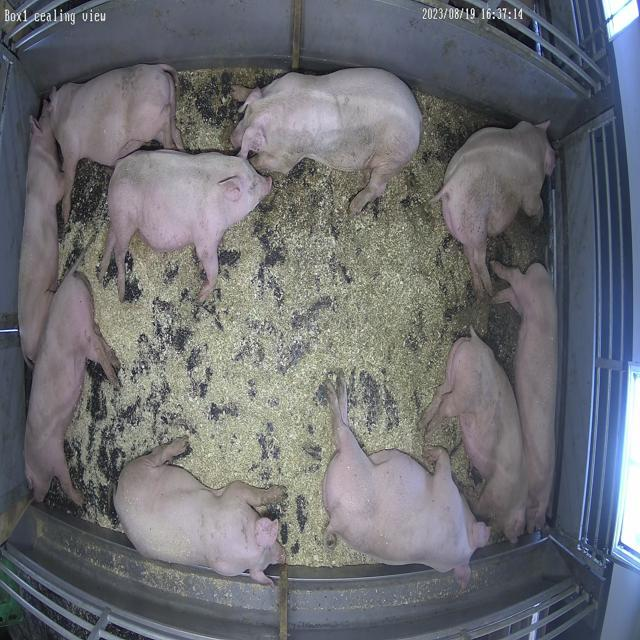Dirt: (363, 92, 496, 240), (427, 246, 521, 378), (176, 67, 286, 154), (488, 211, 549, 272)
Pig: (324, 381, 491, 584), (233, 68, 423, 214), (99, 150, 272, 302), (114, 439, 285, 586), (24, 272, 119, 506), (425, 330, 529, 542), (436, 121, 556, 296), (494, 262, 559, 532), (18, 118, 63, 364)
